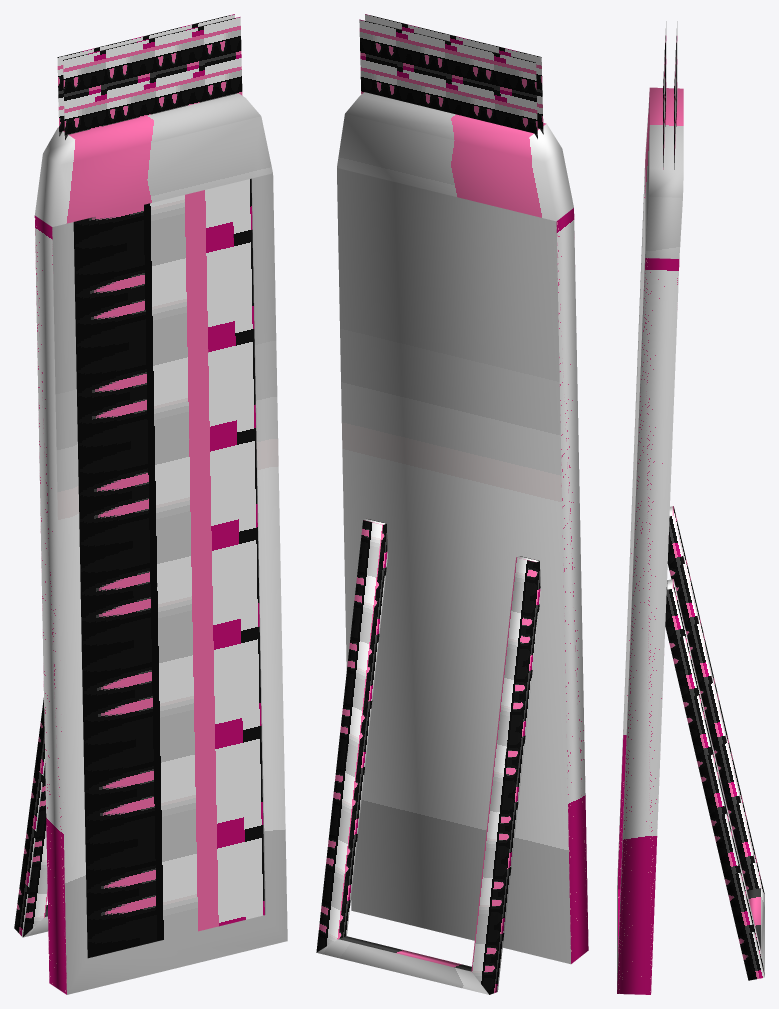
File: 3680kg_gl_mir.gltf
3 views of the same model, side by side, from view 1: azimuth 30°, elevation 25°; view 2: azimuth 150°, elevation 25°; view 3: azimuth 270°, elevation 25° (orthographic). The views are drawn at different scales.
Parts seen in each view (by area): view 1: 3680kg_gl_mir; view 2: 3680kg_gl_mir; view 3: 3680kg_gl_mir.
Part boxes in pixels (bbox=[...]): 3680kg_gl_mir: bbox=[14, 14, 287, 994]; 3680kg_gl_mir: bbox=[316, 14, 588, 994]; 3680kg_gl_mir: bbox=[617, 21, 764, 994].
Bounding box in the file's own units: 0.5308 × 2.09 × 0.3169.
Materials: 1 (1 with a texture image).
